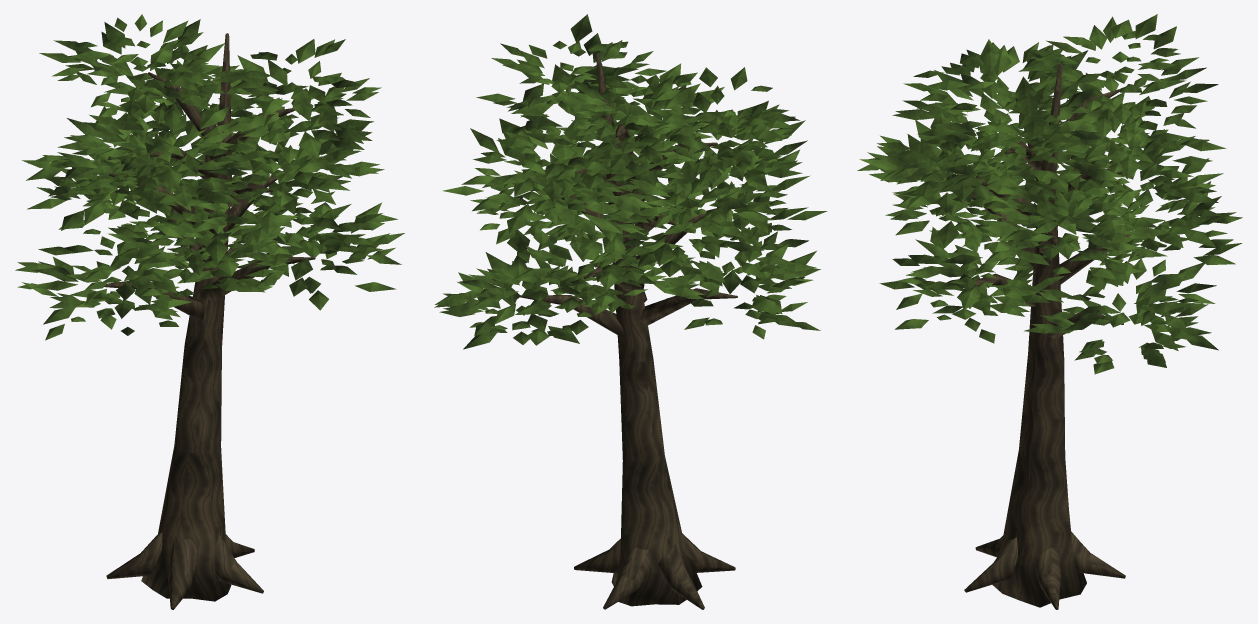
File: tree1.glb
The picture shows the model from 3 angles, left to right: view 1: azimuth 30°, elevation 25°; view 2: azimuth 150°, elevation 25°; view 3: azimuth 270°, elevation 25°; orthographic projection. The views are drawn at different scales.
Parts seen in each view (by area): view 1: tree1; view 2: tree1; view 3: tree1.
Part boxes in pixels (x1,y1,x2,y2): tree1: (15,14,404,609); tree1: (434,14,827,609); tree1: (857,14,1242,609).
Size of the model in its own units: 5.81 by 8.76 by 5.63.
Materials: 2 (2 with a texture image).
